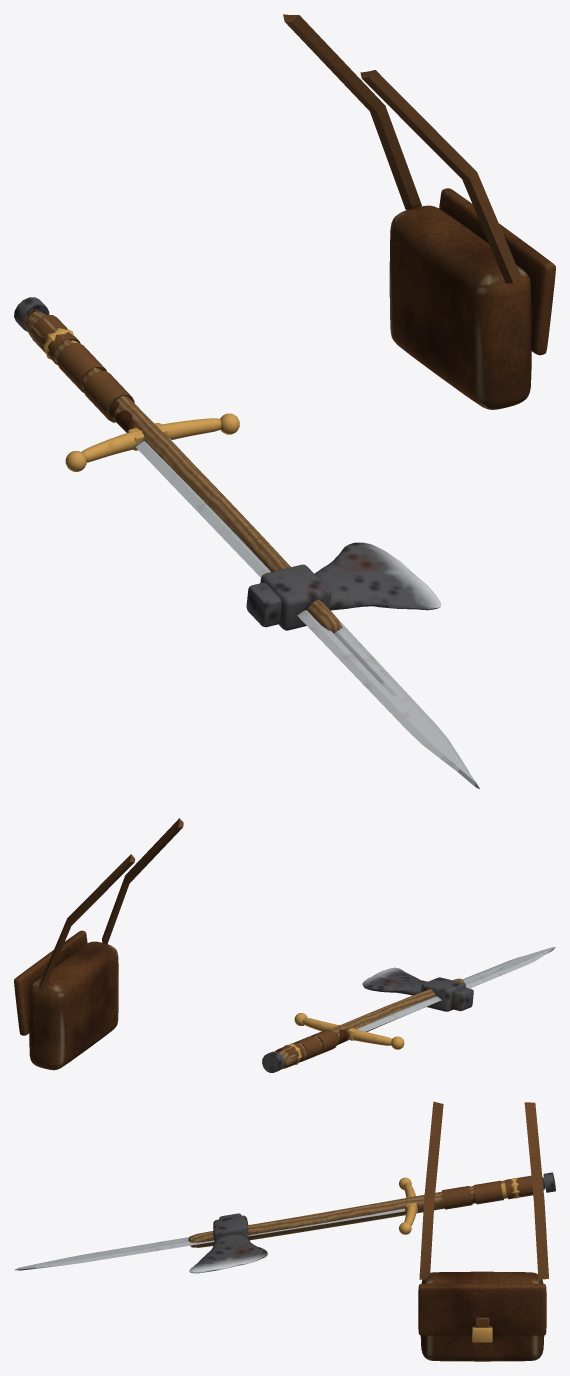
The model's file is items_hq.glb.
3 views of the same model, one above another, from view 1: azimuth 30°, elevation 25°; view 2: azimuth 150°, elevation 25°; view 3: azimuth 270°, elevation 25° (orthographic). The views are drawn at different scales.
Parts seen in each view (by area): view 1: bag, axe, sword; view 2: bag, axe, sword; view 3: bag, axe, sword.
Part boxes in pixels (<box>): bag: <box>283,14,555,409</box>; axe: <box>14,297,441,633</box>; sword: <box>43,328,479,788</box>; bag: <box>14,818,183,1070</box>; axe: <box>262,967,473,1072</box>; sword: <box>284,947,555,1065</box>; bag: <box>418,1101,548,1361</box>; axe: <box>188,1172,555,1273</box>; sword: <box>14,1177,520,1270</box>.
Size of the model in its own units: 0.7576 by 0.5795 by 1.18.
Materials: 1 (1 with a texture image).
